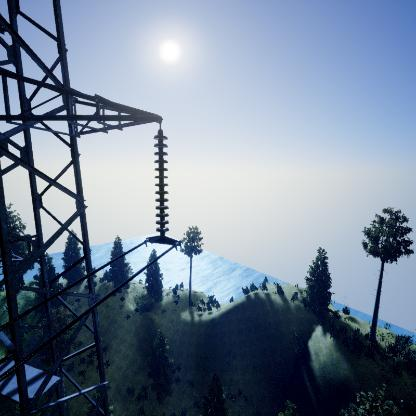insulator: (150, 128, 173, 238)
